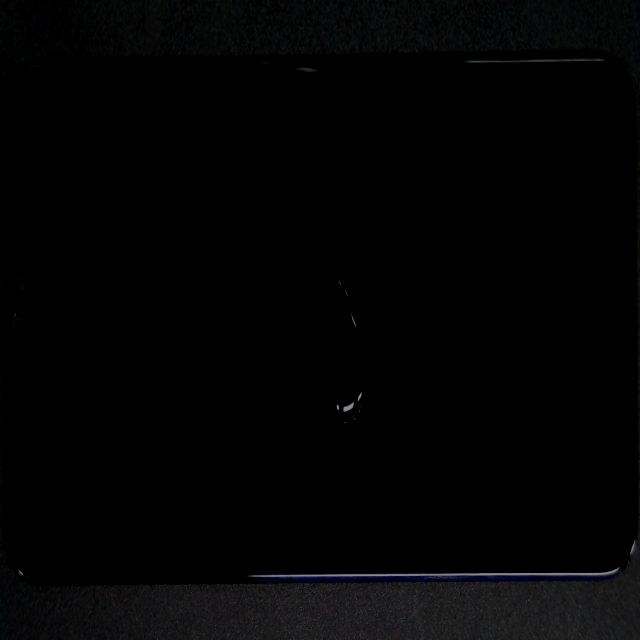oil: (157, 175, 496, 615)
